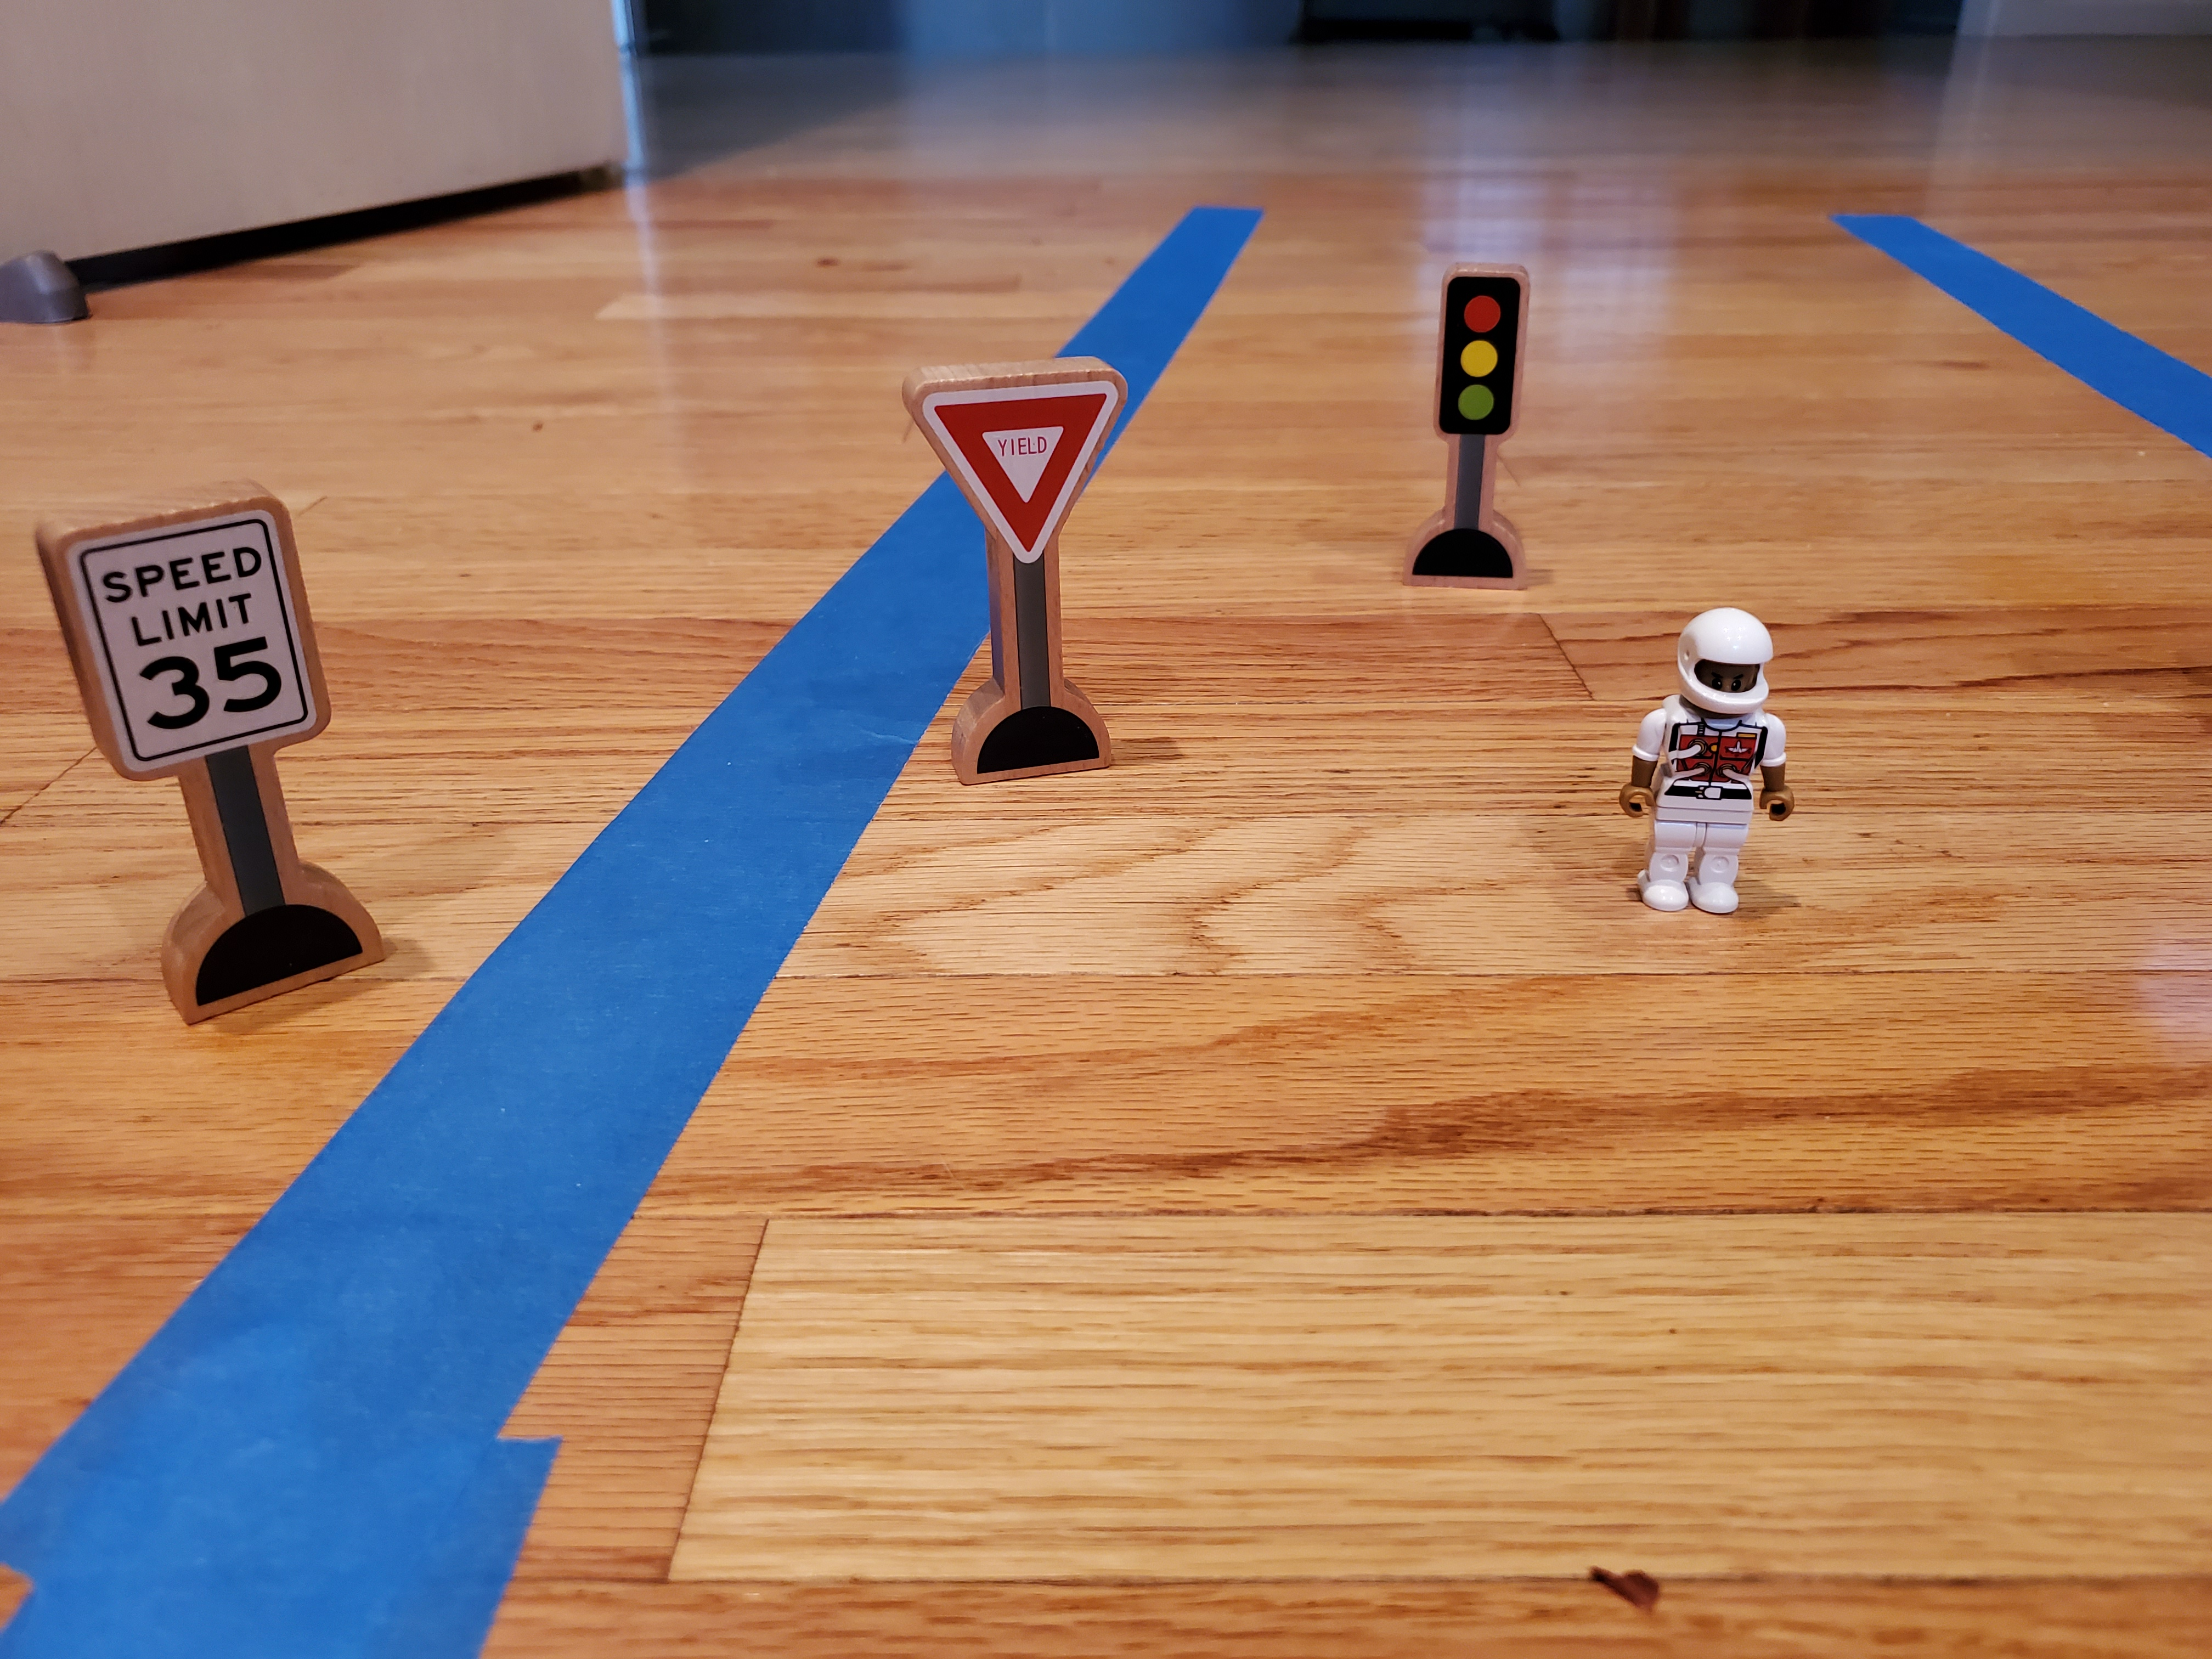Red Traffic Light: (1435, 266, 1517, 445)
Speed Limit 35: (35, 503, 357, 771)
Yield Sign: (896, 349, 1131, 561)
person: (1623, 596, 1795, 930)
